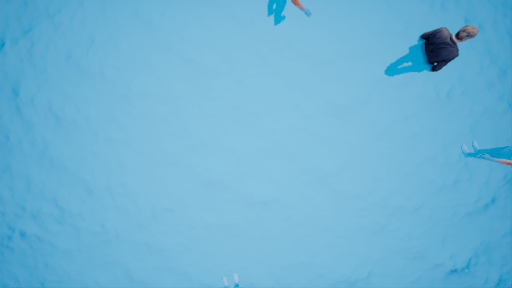person: (378, 8, 479, 83), (456, 132, 512, 171), (258, 1, 297, 33)
